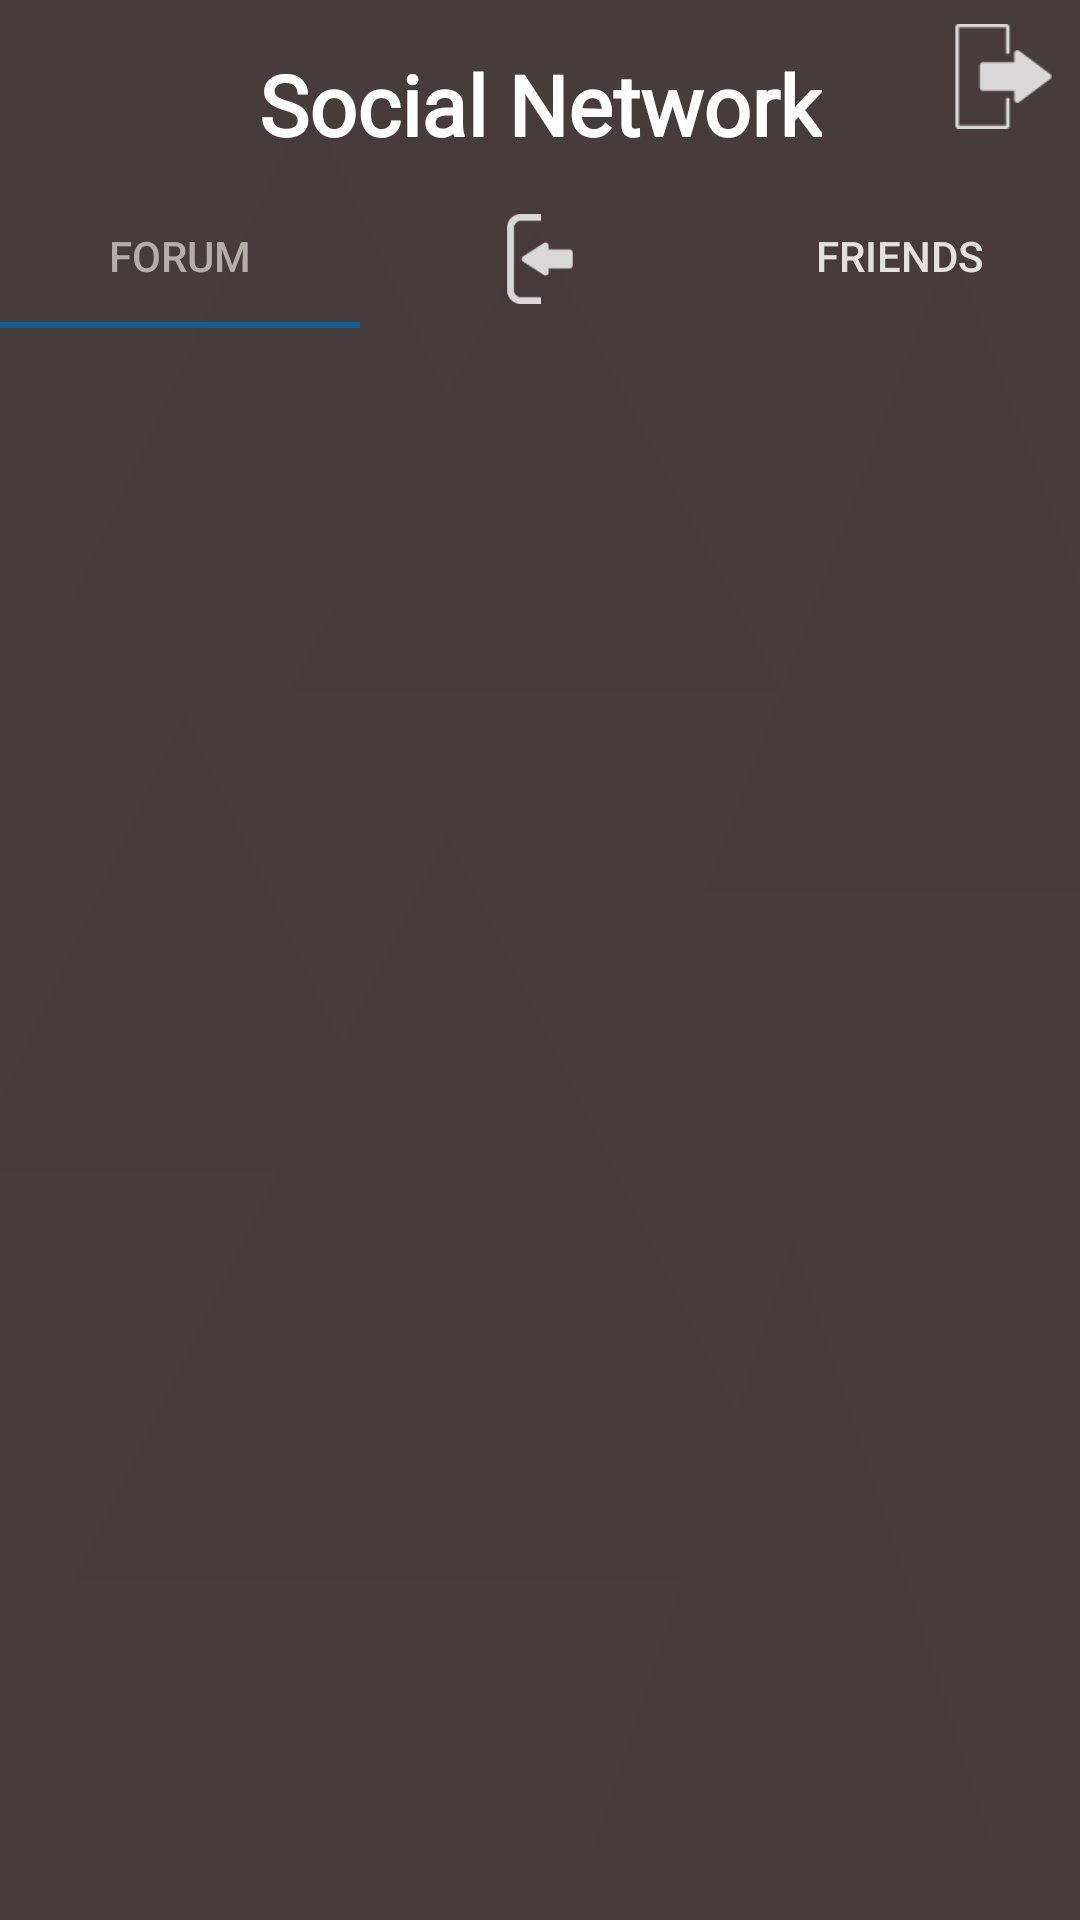

Screen size 1080px×1920px. Icon name, then its box in pixels as region(x1, y1, x2, y2):
log out: region(955, 24, 1052, 129)
